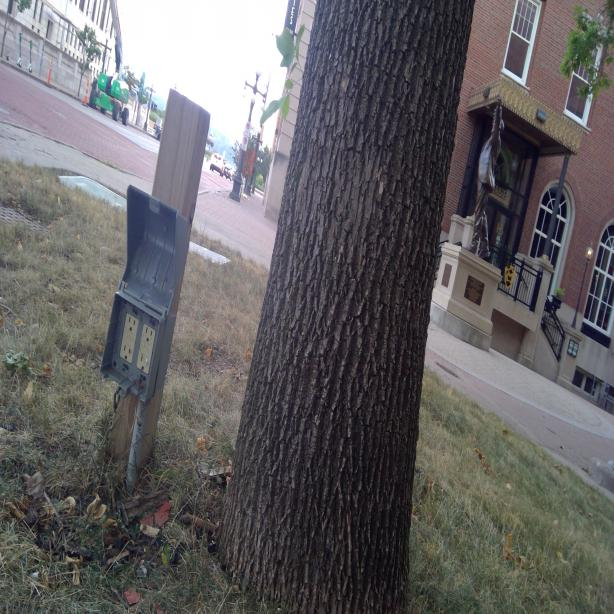typeb: (126, 311, 137, 337), (143, 325, 154, 346), (122, 342, 132, 362), (140, 351, 150, 371)
